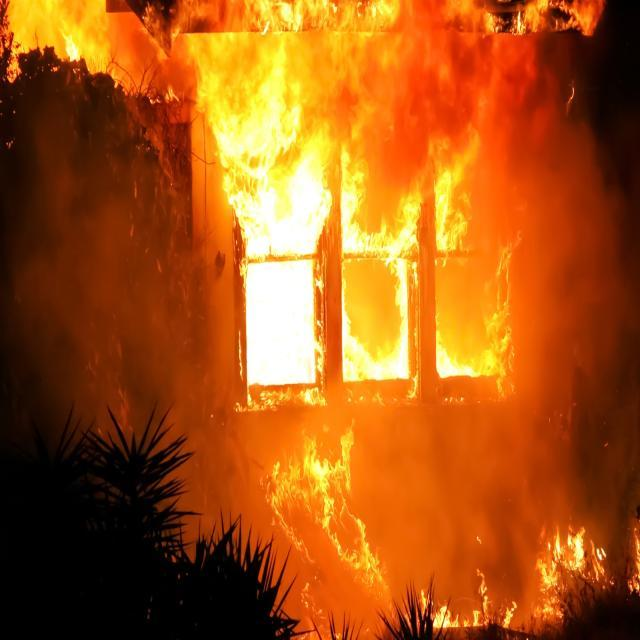fire: (206, 67, 322, 421), (341, 76, 414, 398), (236, 0, 601, 53), (263, 451, 388, 594), (420, 548, 623, 626), (427, 163, 482, 394), (3, 0, 136, 73), (492, 220, 544, 396), (631, 512, 640, 590)
